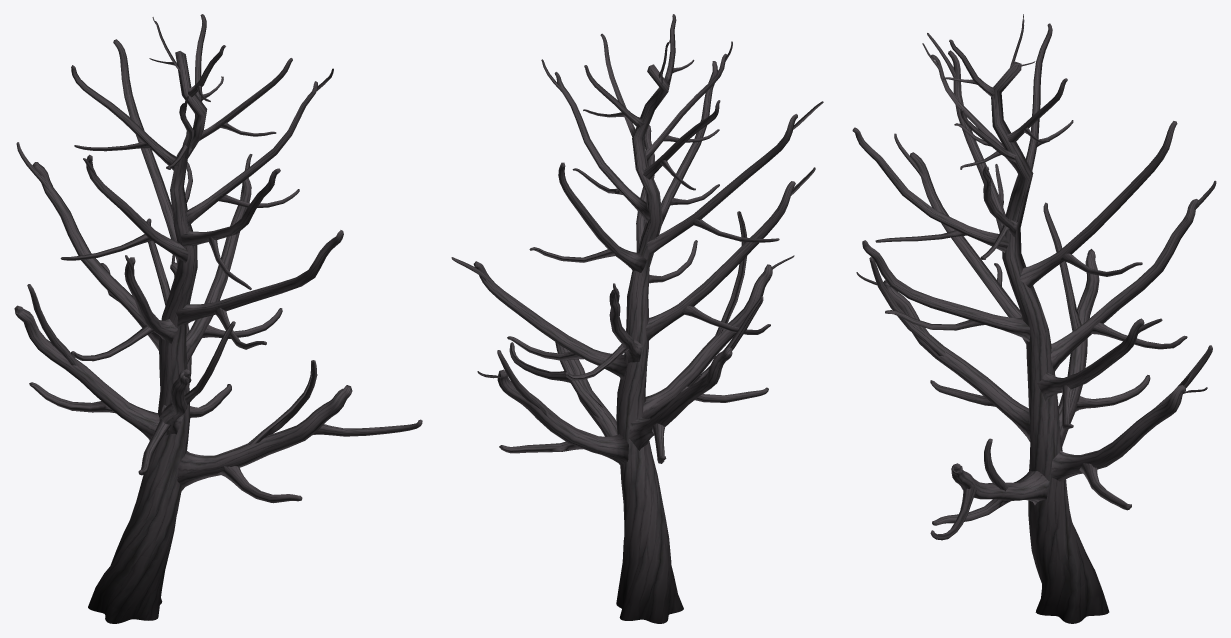
The model's file is deadtree_2.glb.
The picture shows the model from 3 angles, left to right: view 1: azimuth 30°, elevation 25°; view 2: azimuth 150°, elevation 25°; view 3: azimuth 270°, elevation 25°; orthographic projection. The views are drawn at different scales.
Parts seen in each view (by area): view 1: DeadTree_2; view 2: DeadTree_2; view 3: DeadTree_2.
Part boxes in pixels (x1=…): DeadTree_2: x1=14, y1=14, x2=422, y2=623; DeadTree_2: x1=451, y1=14, x2=823, y2=623; DeadTree_2: x1=852, y1=14, x2=1216, y2=623.
Bounding box in the file's own units: 6.73 × 11.49 × 6.38.
Materials: 1 (1 with a texture image).
